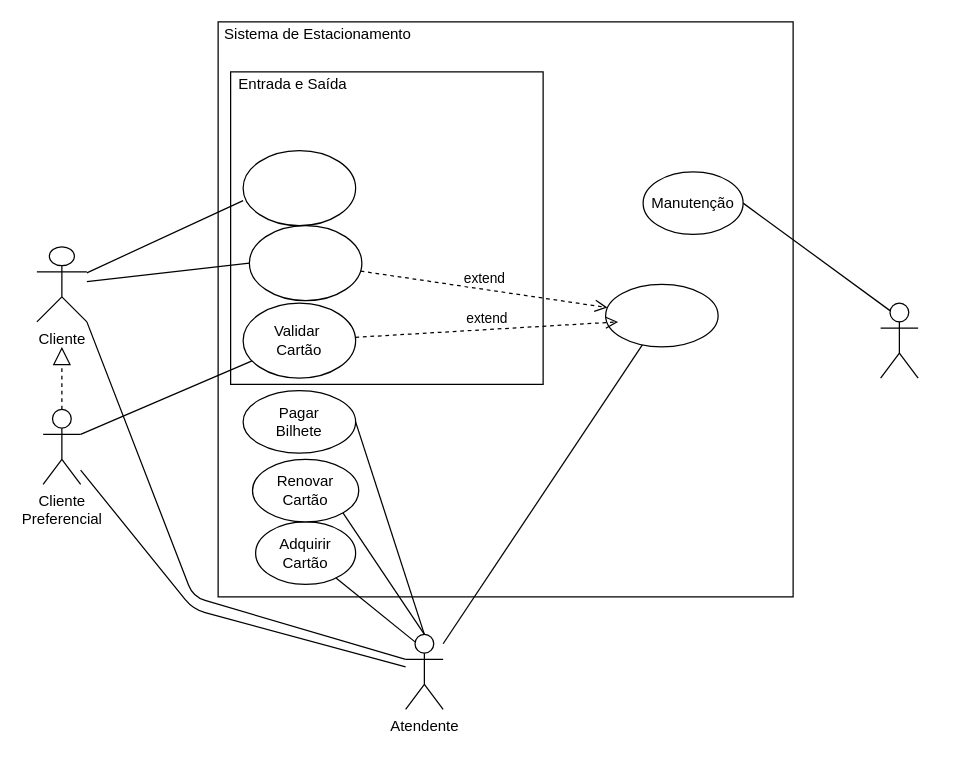
Some shapes in this 960 by 758 pixel diagram are drawn without their labels. The shapes that lost their labels are listed below. From the top down, each one's centre as x and y in pixels, then its label:
point 299,187: Retirar Bilhete
point 305,262: Validar Bilhete
point 661,315: Suporte ao usuário
point 898,340: Mantenedor
